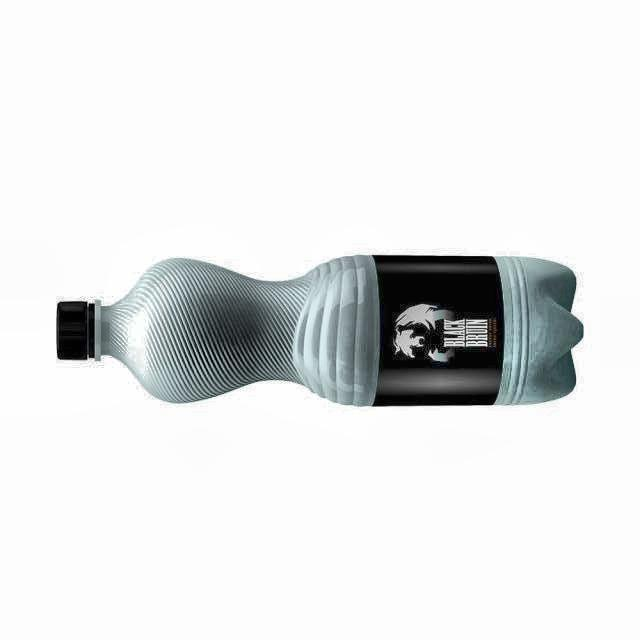plastic: (58, 255, 584, 406)
